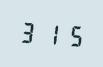five: (61, 20, 81, 49)
one: (40, 19, 60, 47)
three: (18, 17, 38, 46)
